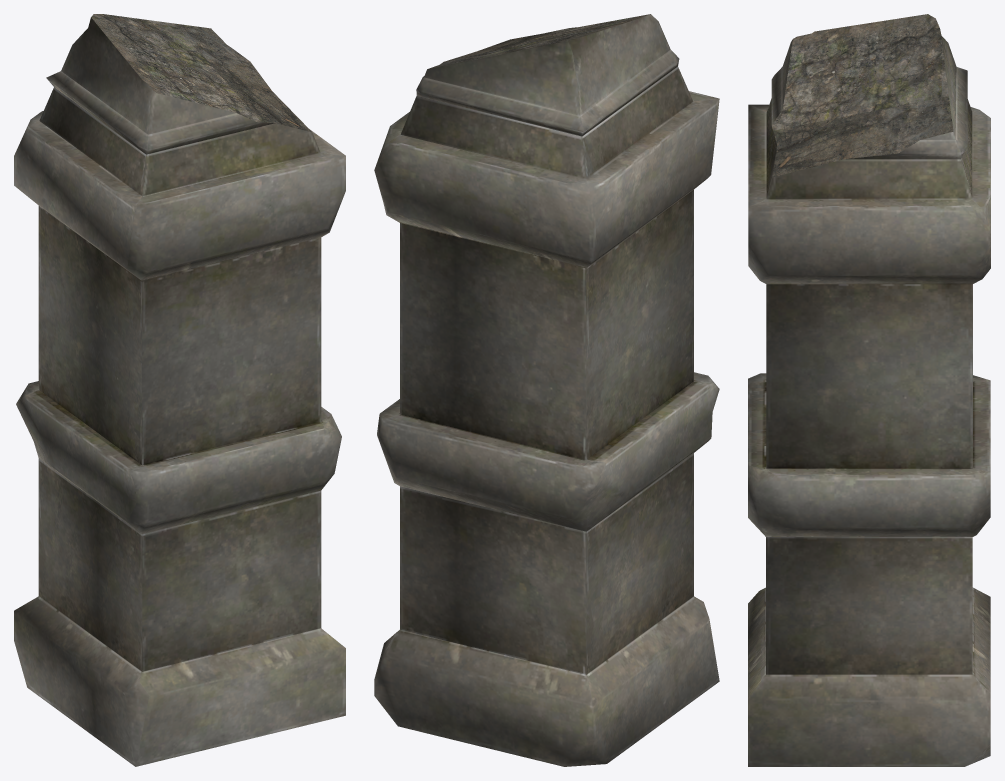
Rendered from RailingPillarDamage01.fbx.
The picture shows the model from 3 angles, left to right: view 1: azimuth 30°, elevation 25°; view 2: azimuth 150°, elevation 25°; view 3: azimuth 270°, elevation 25°; orthographic projection. The views are drawn at different scales.
Parts seen in each view (by area): view 1: RailingPillarDamage01; view 2: RailingPillarDamage01; view 3: RailingPillarDamage01.
Part boxes in pixels (left/top/right/bottom): RailingPillarDamage01: left=14, top=14, right=345, bottom=766; RailingPillarDamage01: left=374, top=14, right=719, bottom=766; RailingPillarDamage01: left=748, top=14, right=990, bottom=766.
Bounding box in the file's own units: 44.83 × 137 × 44.86.
